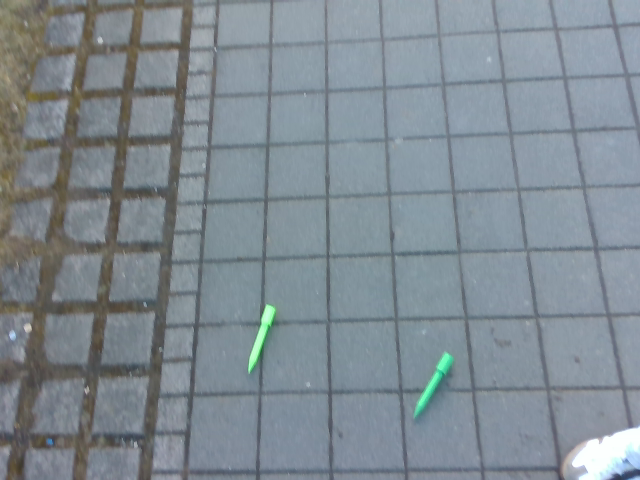Probe: (410, 345, 454, 423), (246, 299, 279, 376)
